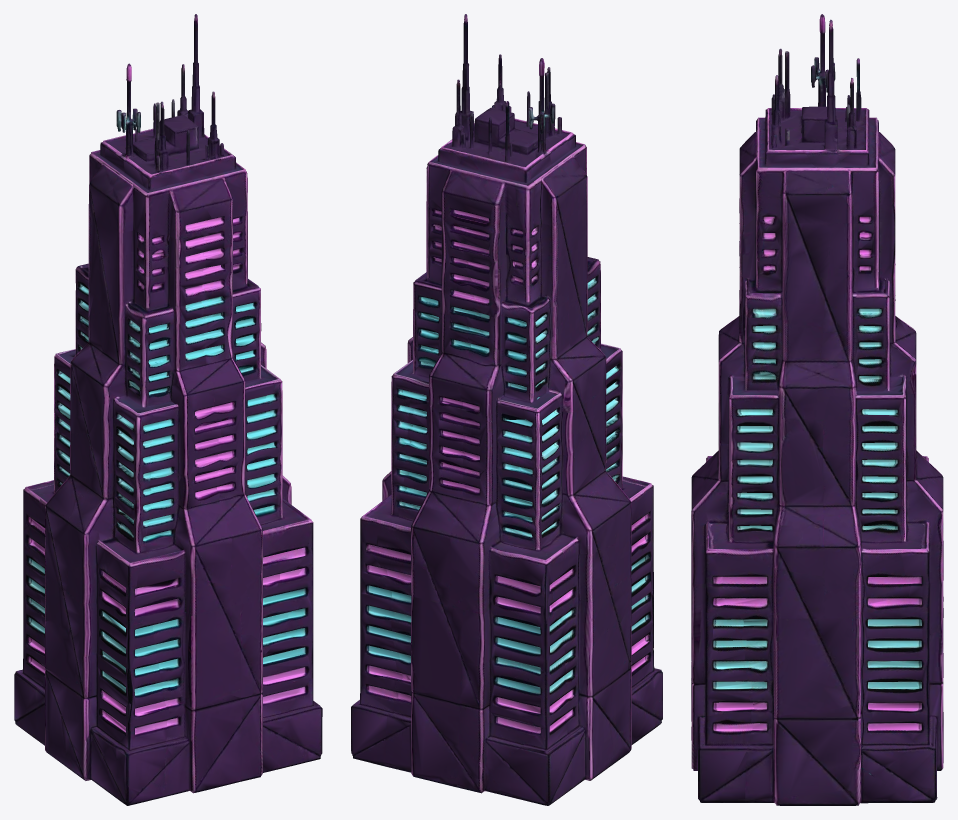
The model's file is tall-building-2.glb.
The picture shows the model from 3 angles, left to right: view 1: azimuth 30°, elevation 25°; view 2: azimuth 150°, elevation 25°; view 3: azimuth 270°, elevation 25°; orthographic projection. The views are drawn at different scales.
Parts seen in each view (by area): view 1: mesh_node; view 2: mesh_node; view 3: mesh_node.
Part boxes in pixels (<box>): mesh_node: <box>14,14,322,805</box>; mesh_node: <box>351,14,662,805</box>; mesh_node: <box>691,14,943,805</box>.
Bounding box in the file's own units: 18959 × 62342 × 18952.
Materials: 1 (1 with a texture image).
